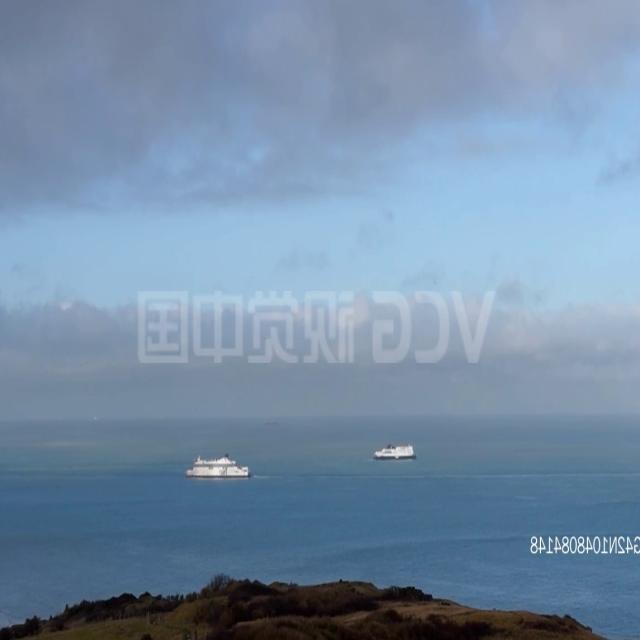passenger ship: (184, 446, 249, 479), (372, 439, 417, 462)
